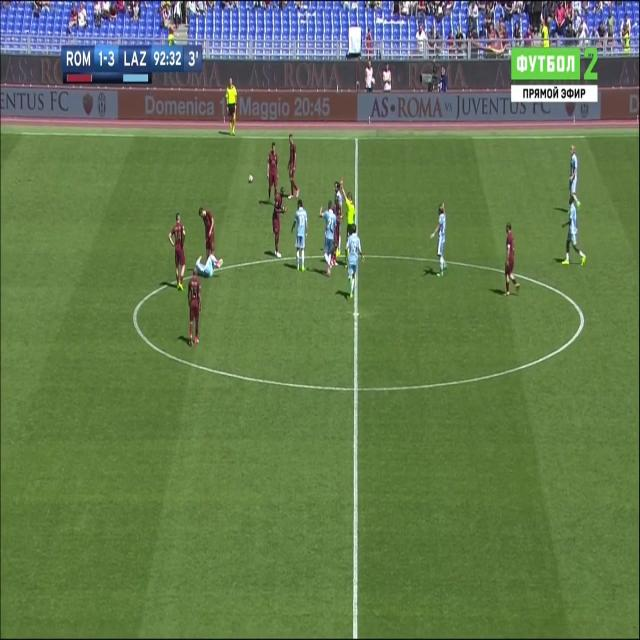Ball: (248, 170, 255, 187)
Player: (560, 196, 588, 270), (344, 219, 366, 303), (428, 197, 448, 283), (168, 212, 188, 292), (502, 220, 521, 300), (187, 264, 203, 351), (317, 200, 336, 272), (290, 198, 308, 273), (566, 142, 583, 211), (271, 188, 287, 260), (196, 201, 216, 257), (265, 138, 279, 209), (287, 132, 300, 203), (191, 253, 225, 278), (333, 175, 342, 252)
Referee: (224, 76, 240, 138), (340, 178, 357, 232)
